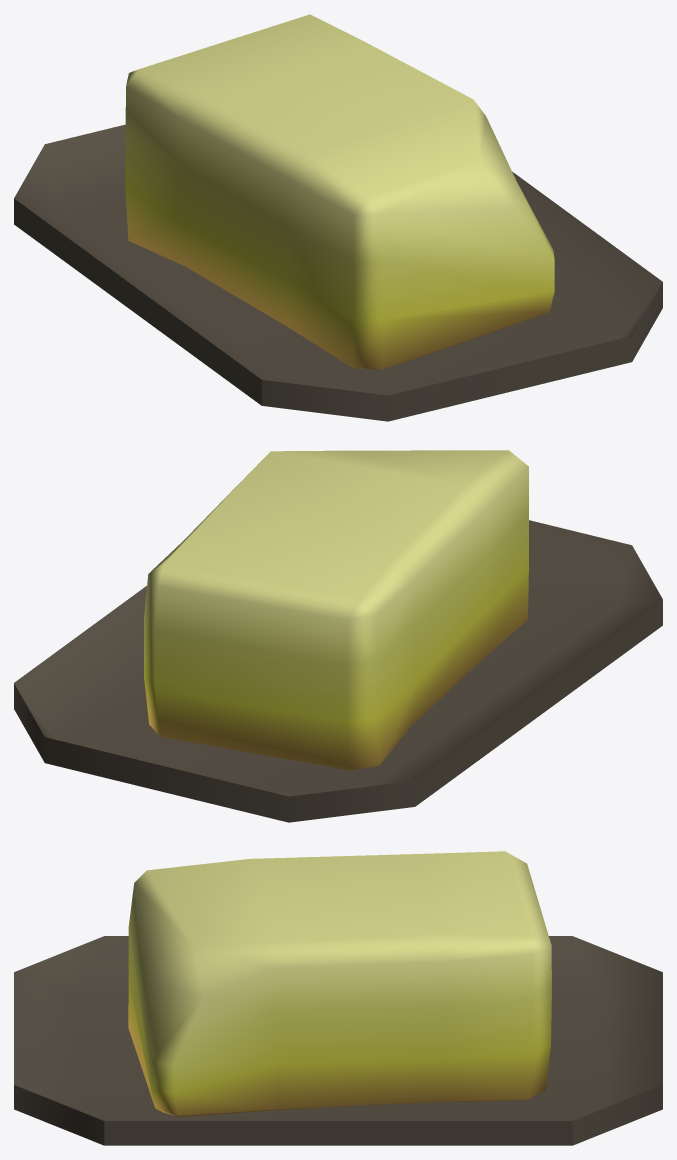
File: butter.fbx
3 renders of one model, top to bottom at view 1: azimuth 30°, elevation 25°; view 2: azimuth 150°, elevation 25°; view 3: azimuth 270°, elevation 25°, orthographic. The views are drawn at different scales.
Visible parts, largest first — view 1: butter; view 2: butter; view 3: butter.
Boxes of the visible parts, <box> form: butter: <box>14,14,662,421</box>; butter: <box>14,450,662,822</box>; butter: <box>14,851,662,1145</box>.
Size of the model in its own units: 199 by 89.03 by 294.
